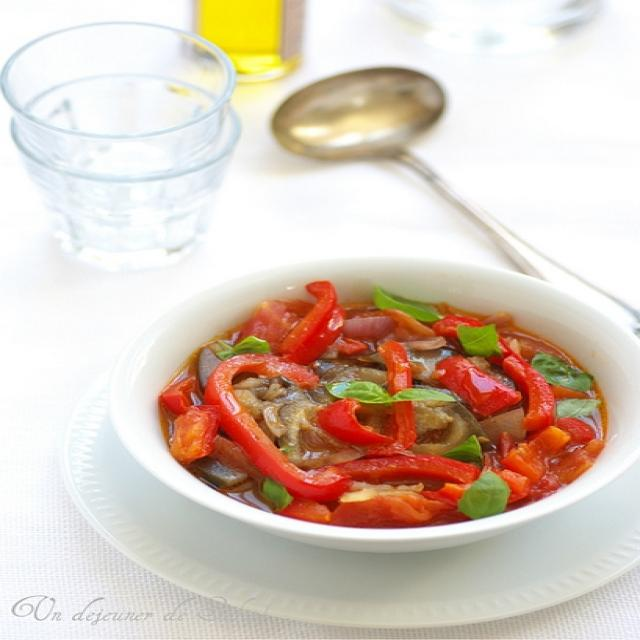汤锅炖物: (82, 256, 636, 597)
